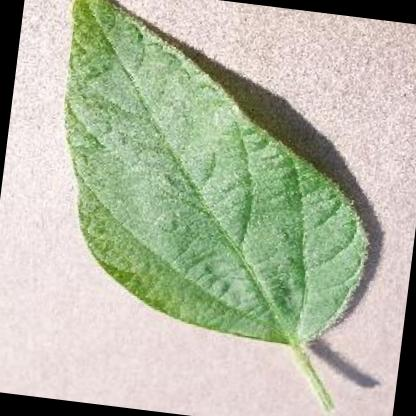soy: (20, 0, 403, 416)
